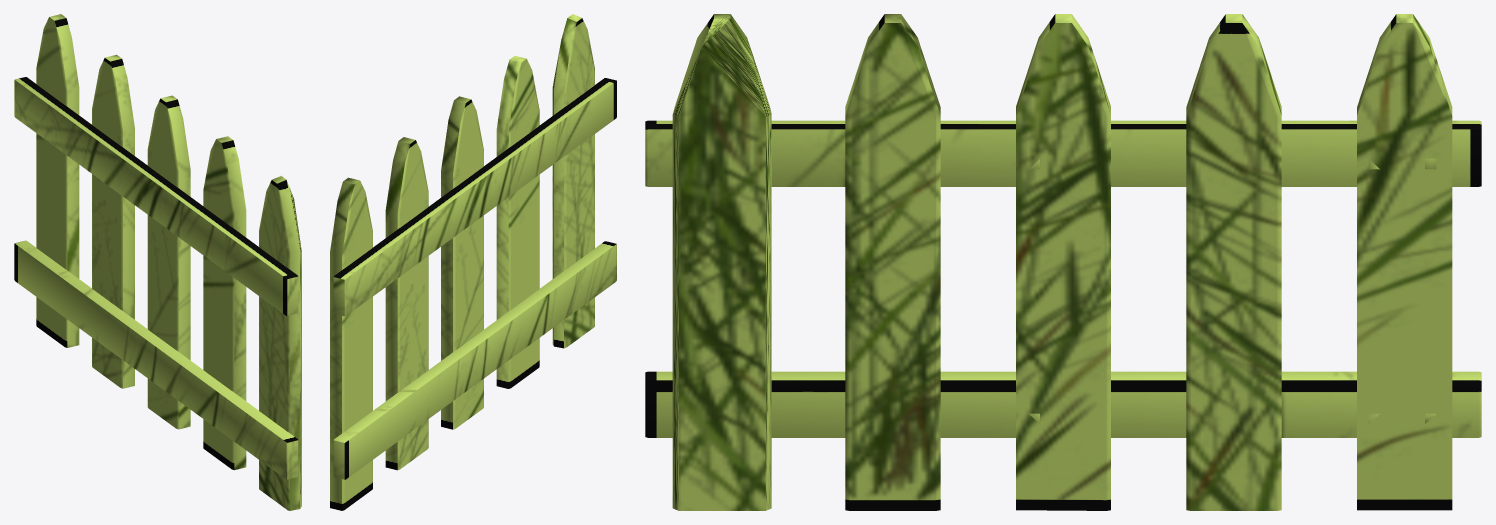
File: wood wall.fbx
3 renders of one model, left to right at view 1: azimuth 30°, elevation 25°; view 2: azimuth 150°, elevation 25°; view 3: azimuth 270°, elevation 25°, orthographic. The views are drawn at different scales.
Visible parts, largest first — view 1: wood_Mesh; view 2: wood_Mesh; view 3: wood_Mesh.
Part boxes in pixels (<box>): wood_Mesh: <box>14,14,301,510</box>; wood_Mesh: <box>330,14,616,510</box>; wood_Mesh: <box>645,14,1481,510</box>.
Size of the model in its own units: 0.1068 by 1.27 by 1.97.
